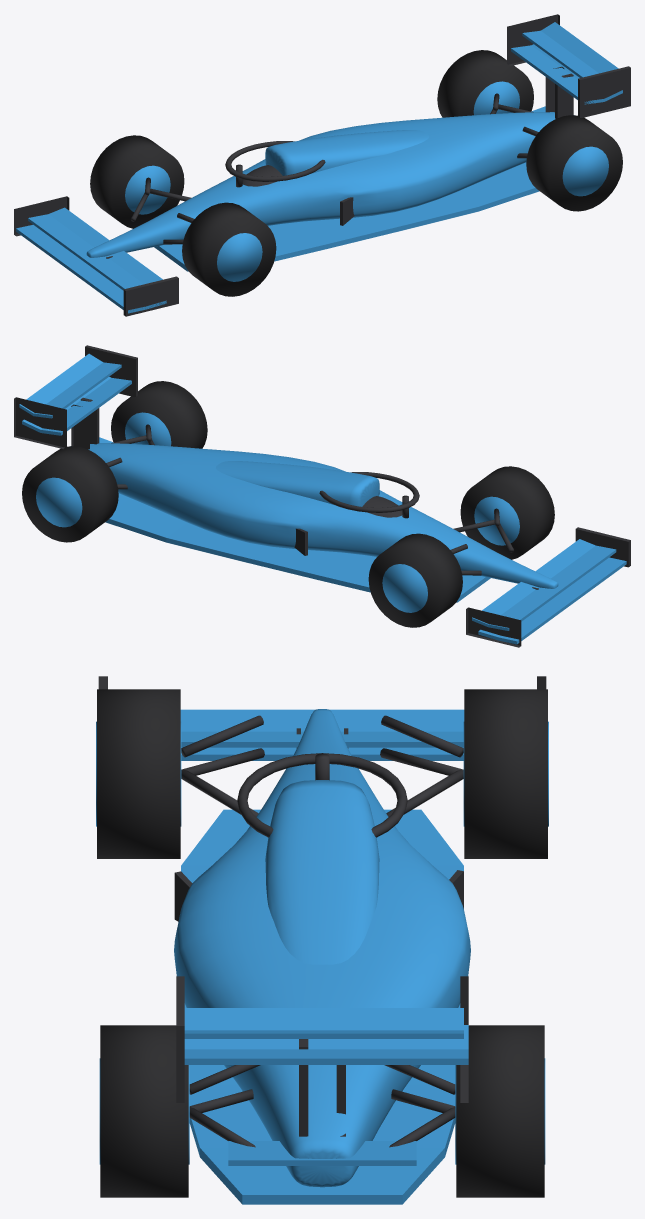
Rendered from f1-2026-car.glb.
The picture shows the model from 3 angles, top to bottom: view 1: azimuth 30°, elevation 25°; view 2: azimuth 150°, elevation 25°; view 3: azimuth 270°, elevation 25°; orthographic projection. The views are drawn at different scales.
Visible parts, largest first — view 1: Body, Floor, Tyre.003, Tyre.001, Tyre, EngineCover, Tyre.002, FrontWingFlap, RearWingFlap, FrontWingMain, RWEndplate.001, Rim.003 (+10 smaller); view 2: Body, Floor, Tyre.002, Tyre, Tyre.001, EngineCover, Tyre.003, FrontWingFlap, RearWingFlap, FrontWingMain, RWEndplate, Rim.002 (+10 smaller); view 3: Body, Floor, EngineCover, Tyre.002, Tyre.003, Tyre, Tyre.001, RearWingFlap, FrontWingFlap, RearWingMain, BeamWing, Halo (+9 smaller).
Boxes of the visible parts, <box> form: Body: <box>86,112,555,257</box>; Floor: <box>154,162,539,271</box>; Tyre.003: <box>526,115,622,211</box>; Tyre.001: <box>182,202,276,296</box>; Tyre: <box>90,135,184,228</box>; EngineCover: <box>265,130,428,175</box>; Tyre.002: <box>437,50,533,117</box>; FrontWingFlap: <box>28,207,162,290</box>; RearWingFlap: <box>522,22,618,77</box>; FrontWingMain: <box>16,225,166,313</box>; RWEndplate.001: <box>578,66,630,117</box>; Rim.003: <box>562,146,608,196</box>; Body: <box>88,443,558,588</box>; Floor: <box>105,493,490,602</box>; Tyre.002: <box>22,446,118,542</box>; Tyre: <box>368,533,462,627</box>; Tyre.001: <box>460,466,554,559</box>; EngineCover: <box>216,461,379,506</box>; Tyre.003: <box>111,381,207,448</box>; FrontWingFlap: <box>472,539,616,630</box>; RearWingFlap: <box>19,353,121,418</box>; FrontWingMain: <box>478,557,626,644</box>; RWEndplate: <box>14,397,66,448</box>; Rim.002: <box>36,477,82,527</box>; Body: <box>174,709,470,1187</box>; Floor: <box>181,809,463,1204</box>; EngineCover: <box>265,780,379,964</box>; Tyre.002: <box>456,1025,544,1197</box>; Tyre.003: <box>100,1025,188,1197</box>; Tyre: <box>464,689,547,858</box>; Tyre.001: <box>97,689,180,858</box>; RearWingFlap: <box>184,1008,463,1038</box>; FrontWingFlap: <box>180,709,464,747</box>; RearWingMain: <box>184,1025,468,1064</box>; BeamWing: <box>228,1141,416,1165</box>; Halo: <box>237,753,407,837</box>.
Bounding box in the file's own units: 5.14 × 1.06 × 1.92.
